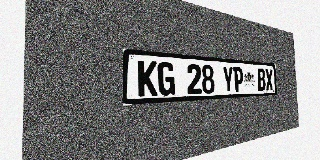2: (187, 63, 202, 94)
8: (201, 64, 215, 94)
B: (257, 68, 266, 91)
G: (158, 61, 175, 96)
K: (138, 60, 157, 97)
P: (233, 67, 244, 92)
X: (265, 69, 273, 91)
Y: (222, 66, 234, 93)
